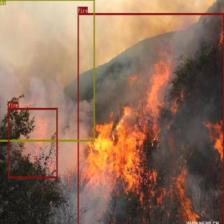fire: (77, 12, 223, 224), (8, 107, 57, 178)
smoke: (0, 0, 94, 141)
